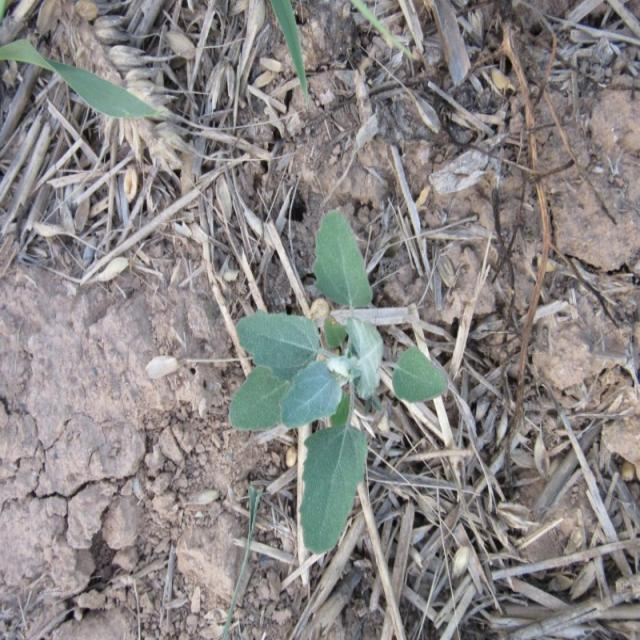ca: (232, 207, 445, 552)
